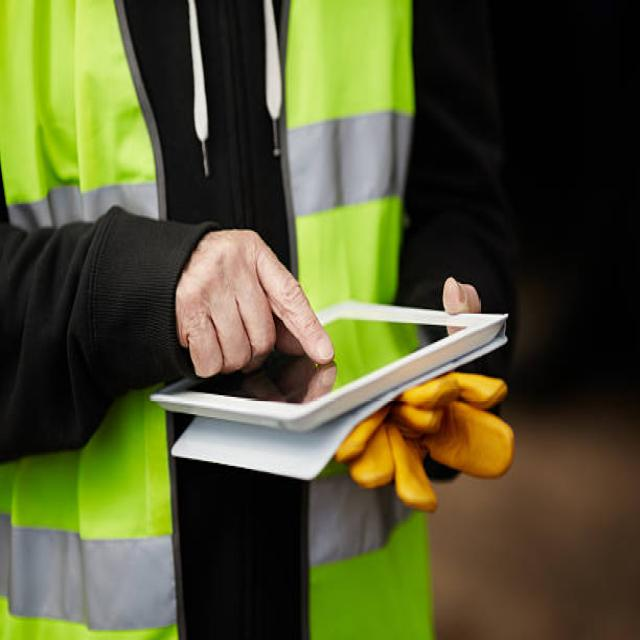gloves: (333, 358, 514, 513)
